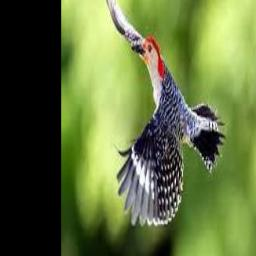Woodpecker: (104, 0, 225, 226)
